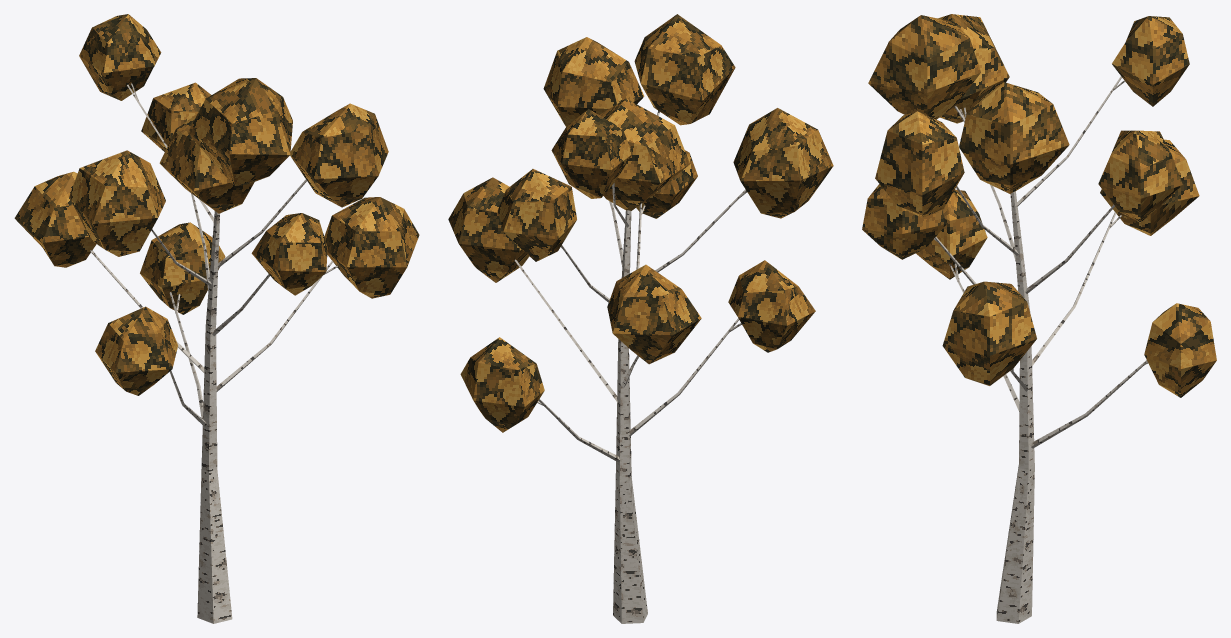
File: TREE_Birch_Autumn_A_LOD2.glb
The picture shows the model from 3 angles, left to right: view 1: azimuth 30°, elevation 25°; view 2: azimuth 150°, elevation 25°; view 3: azimuth 270°, elevation 25°; orthographic projection. The views are drawn at different scales.
Visible parts, largest first — view 1: TREE_Birch_Autumn_A_LOD2__Foliage, TREE_Birch_Autumn_A_LOD2__Bark; view 2: TREE_Birch_Autumn_A_LOD2__Foliage, TREE_Birch_Autumn_A_LOD2__Bark; view 3: TREE_Birch_Autumn_A_LOD2__Foliage, TREE_Birch_Autumn_A_LOD2__Bark.
Boxes of the visible parts, x1=… form: TREE_Birch_Autumn_A_LOD2__Foliage: x1=14, y1=14, x2=419, y2=395; TREE_Birch_Autumn_A_LOD2__Bark: x1=90, y1=83, x2=338, y2=623; TREE_Birch_Autumn_A_LOD2__Foliage: x1=448, y1=14, x2=833, y2=432; TREE_Birch_Autumn_A_LOD2__Bark: x1=514, y1=110, x2=746, y2=623; TREE_Birch_Autumn_A_LOD2__Foliage: x1=862, y1=14, x2=1216, y2=397; TREE_Birch_Autumn_A_LOD2__Bark: x1=934, y1=76, x2=1148, y2=623.
Size of the model in its own units: 7.69 by 11.79 by 6.32.
Materials: 2 (2 with a texture image).
